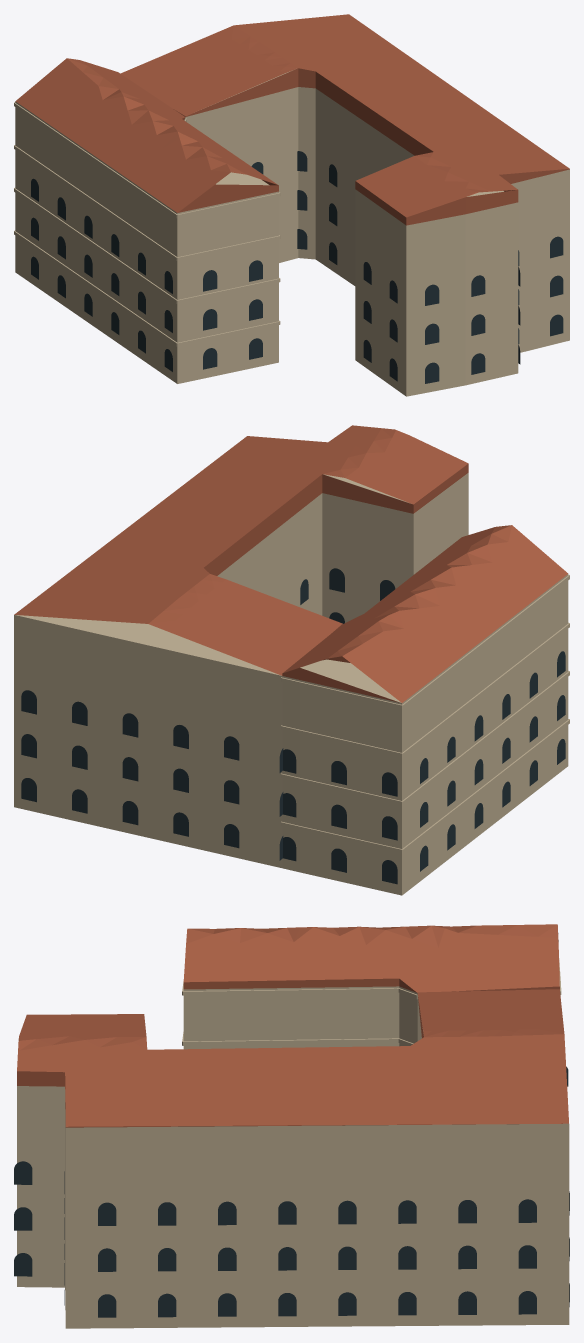
Rendered from giunti-odeon.glb.
The picture shows the model from 3 angles, top to bottom: view 1: azimuth 30°, elevation 25°; view 2: azimuth 150°, elevation 25°; view 3: azimuth 270°, elevation 25°; orthographic projection. The views are drawn at different scales.
Visible parts, largest first — view 1: cinema-envelope, strozzino-palace, cinema-roof, roof, facade-windows, storey-bands; view 2: cinema-envelope, strozzino-palace, cinema-roof, roof, facade-windows, storey-bands; view 3: cinema-envelope, cinema-roof, roof, strozzino-palace, facade-windows, storey-bands.
Boxes of the visible parts, x1,y1,x2,y2 form: cinema-envelope: (185, 70, 569, 396); strozzino-palace: (15, 101, 278, 383); cinema-roof: (120, 14, 569, 225); roof: (15, 58, 278, 212); facade-windows: (31, 151, 563, 383); storey-bands: (14, 102, 280, 346); cinema-envelope: (14, 473, 468, 867); strozzino-palace: (282, 574, 568, 895); cinema-roof: (14, 425, 468, 675); roof: (282, 525, 568, 702); facade-windows: (21, 568, 565, 884); storey-bands: (281, 574, 569, 853); cinema-envelope: (17, 996, 569, 1328); cinema-roof: (17, 989, 568, 1127); roof: (183, 924, 559, 992); strozzino-palace: (183, 986, 417, 1049); facade-windows: (14, 1067, 569, 1317); storey-bands: (182, 958, 561, 1045).
Size of the model in its own units: 13.57 by 7.53 by 16.
